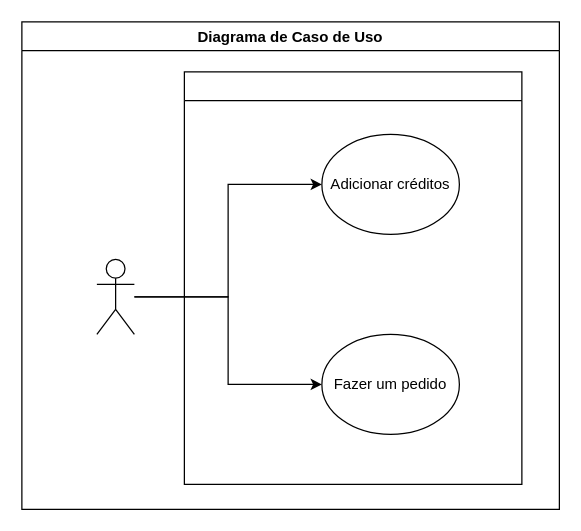
This 581x531 diagram has some shape labels left out. Each missing label, with the box of its shape:
Usuário: (96, 258, 134, 334)
VMG - Máquina + Aplicativo: (183, 71, 522, 484)
